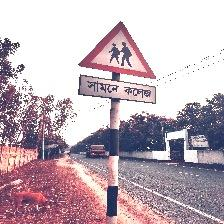College-in-front: (77, 10, 170, 127)
